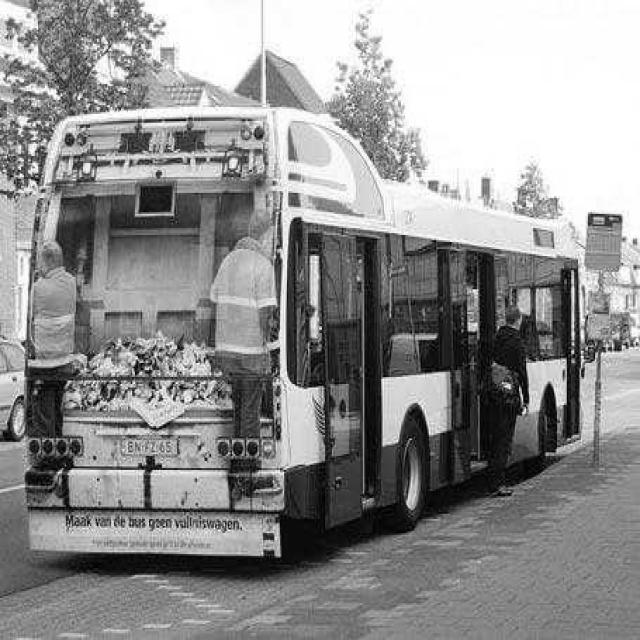Bus: (27, 106, 590, 572)
